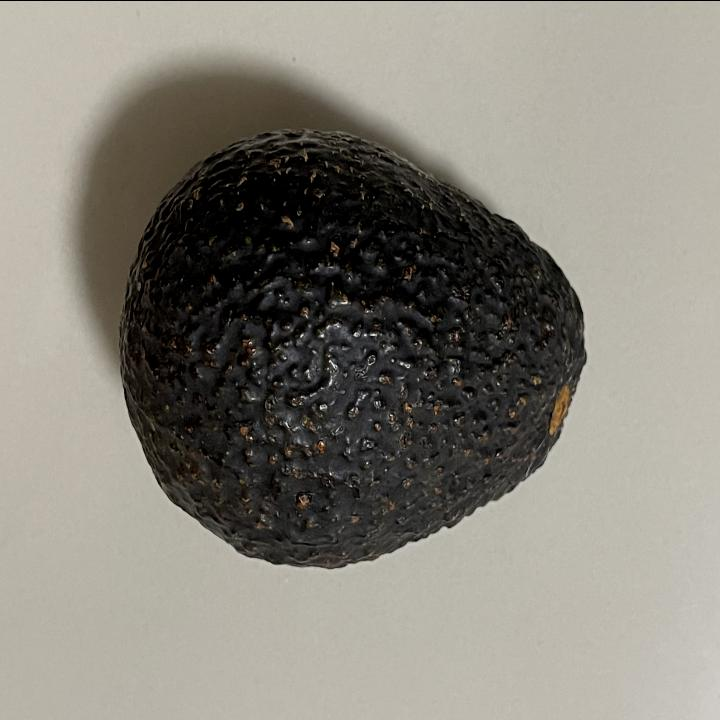Level3: (112, 116, 602, 580)
